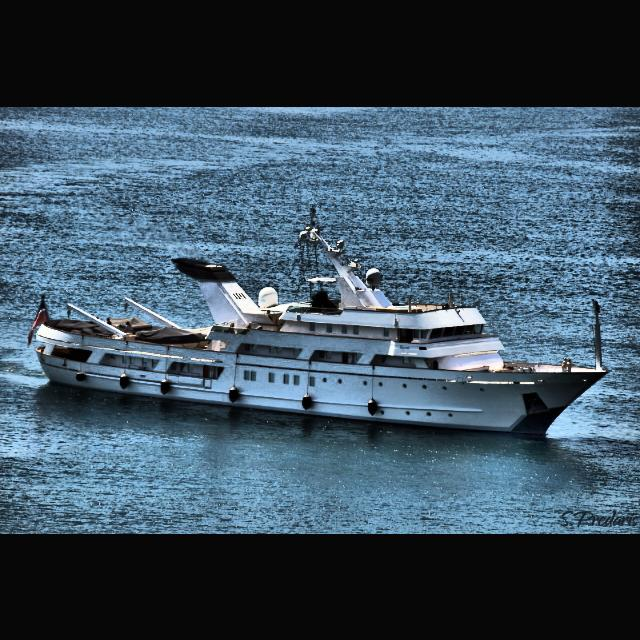yacht: (22, 202, 612, 454)
